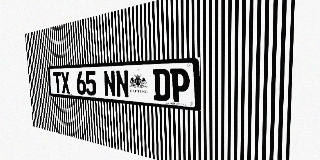5: (85, 71, 97, 96)
6: (76, 71, 86, 95)
D: (153, 69, 170, 101)
N: (115, 70, 129, 98), (103, 70, 116, 97)
P: (170, 68, 190, 103)
T: (53, 72, 62, 93)
X: (61, 71, 70, 94)
